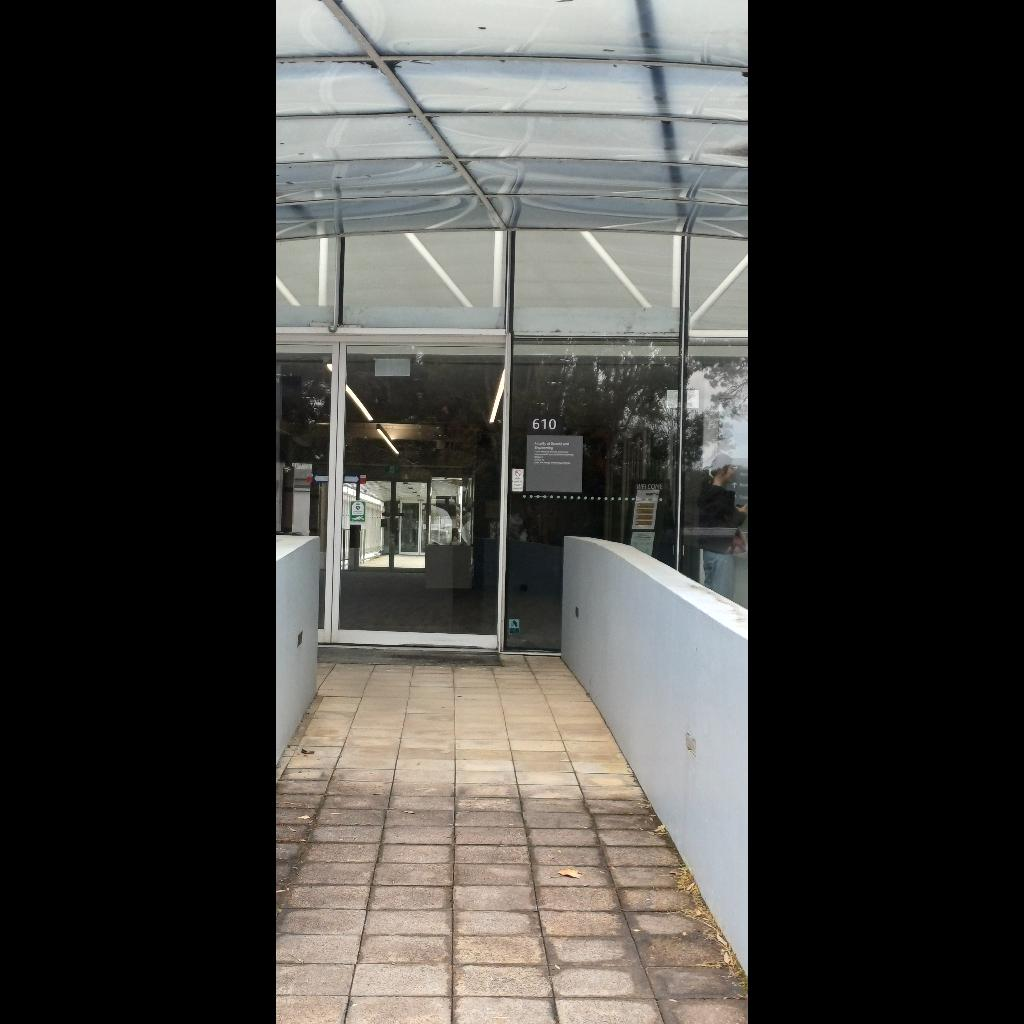BuildingCodes: (532, 417, 558, 433)
